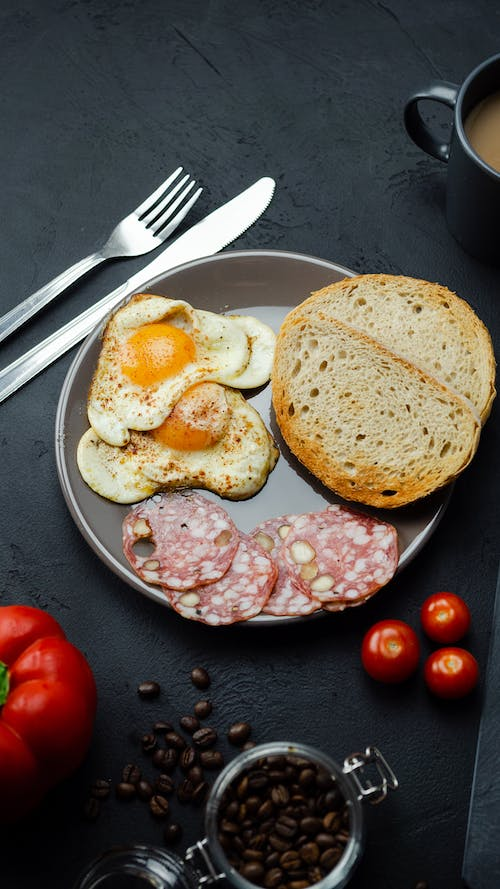knife: (0, 175, 279, 406)
